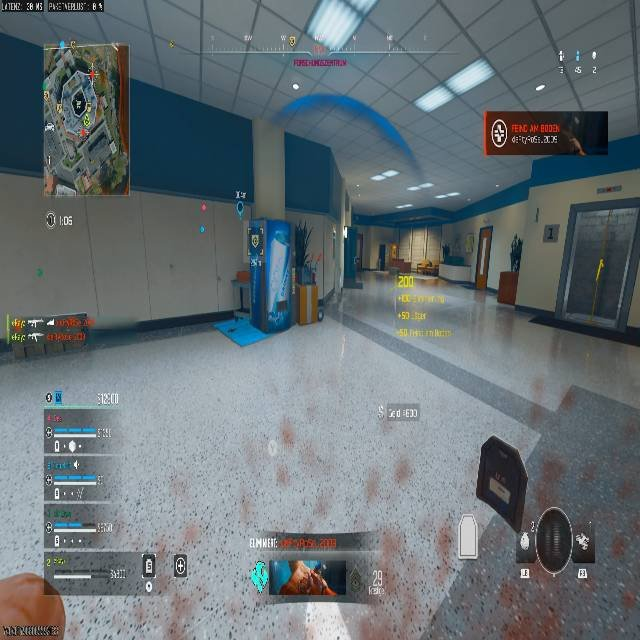player: (317, 296, 325, 322)
